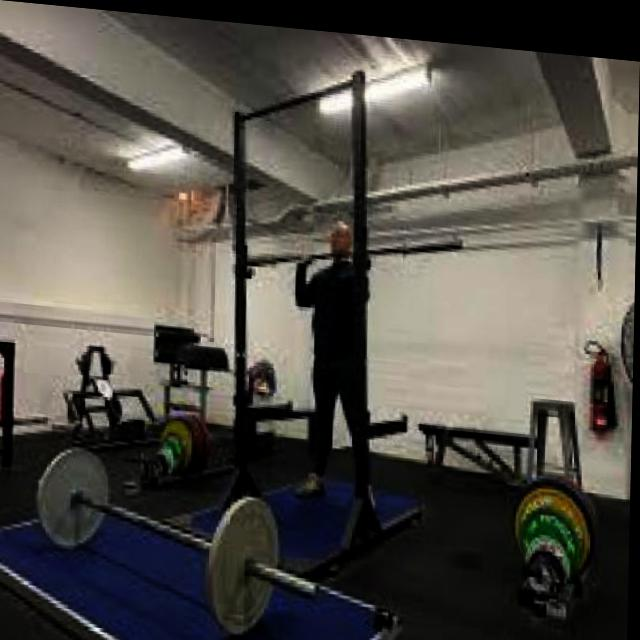barbell: (202, 489, 327, 640)
